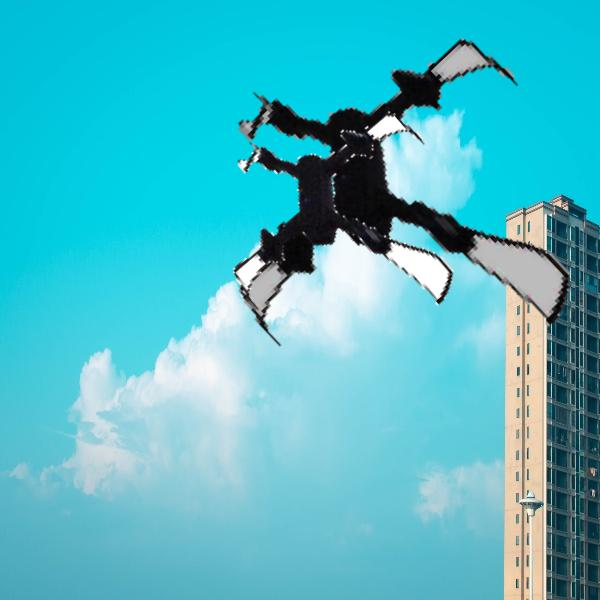drone: (205, 16, 600, 411), (213, 95, 476, 358)
